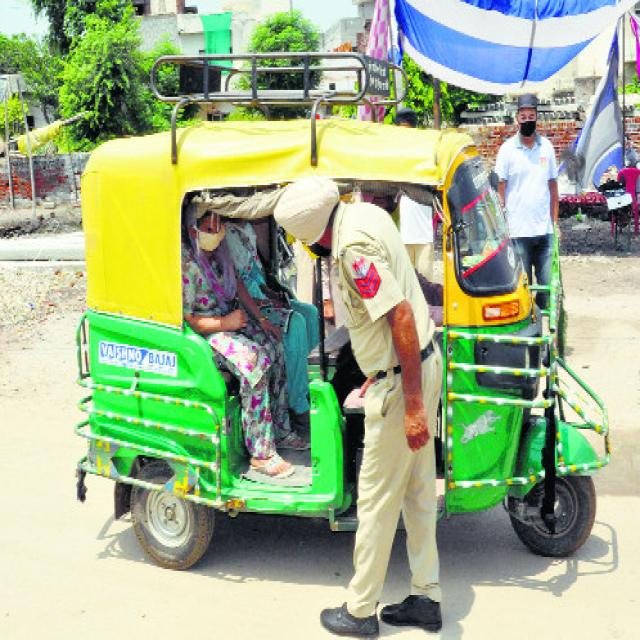autorickshaw: (76, 119, 609, 566)
